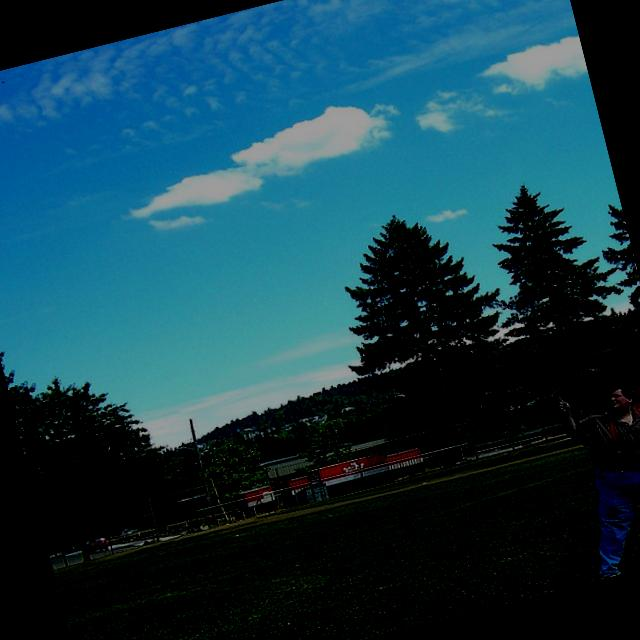Vehicle: (85, 534, 108, 554)
